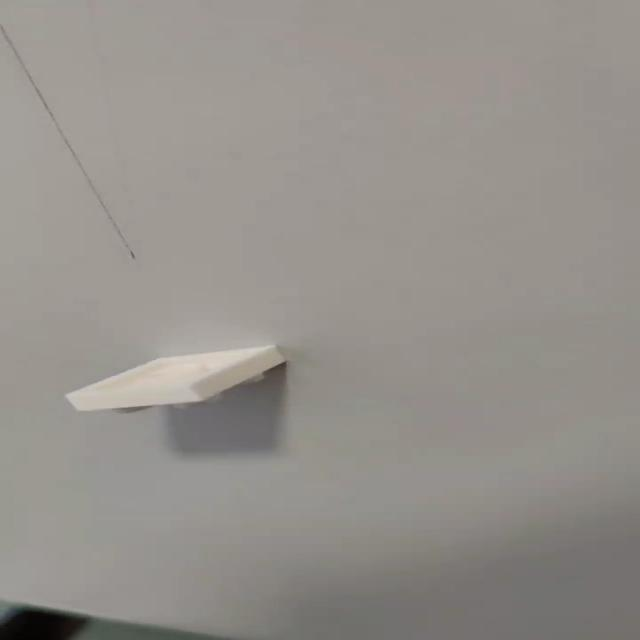C2x2x0: (60, 343, 296, 418)
